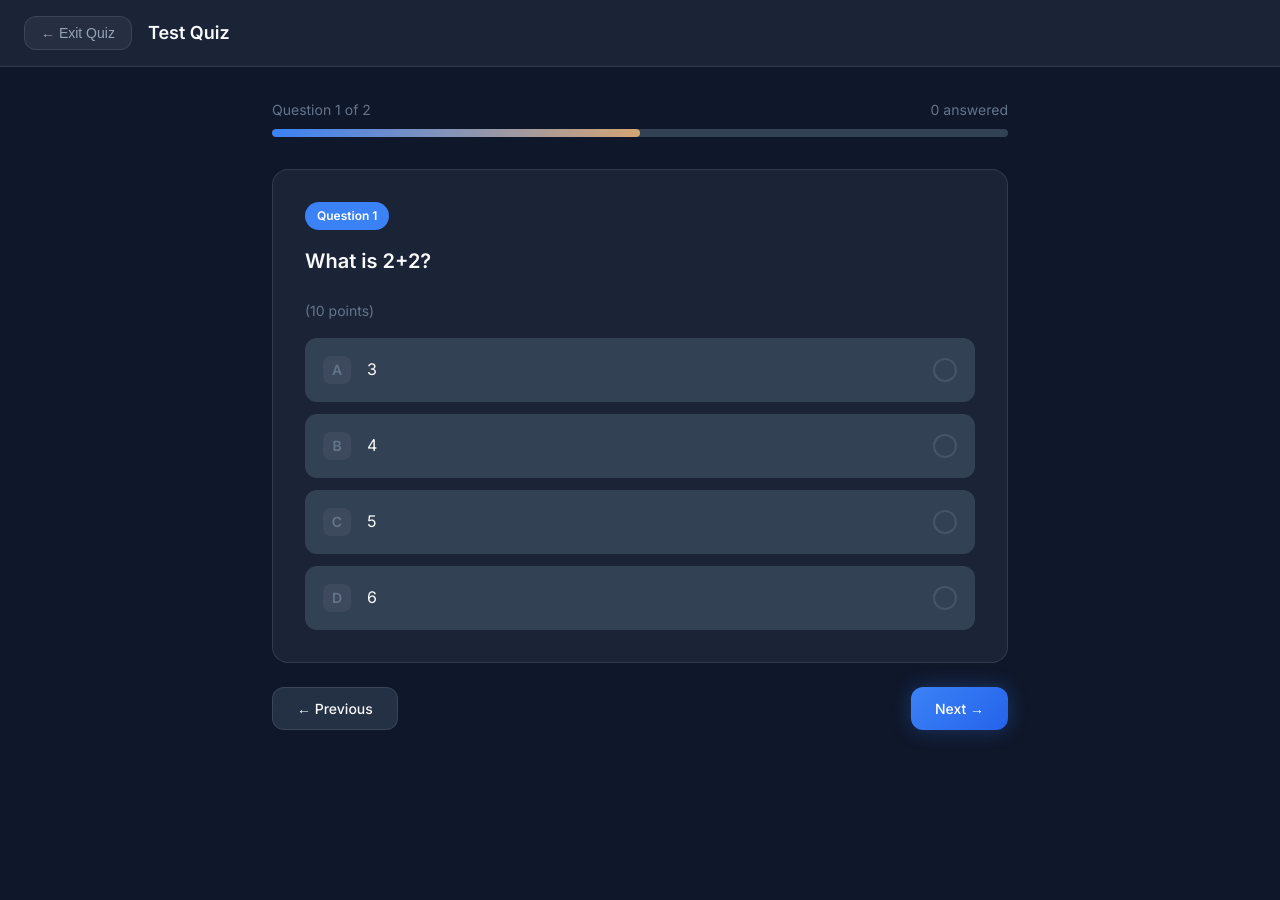
Scenario: QuizEngine › enables Check Answer button after selecting an answer
The width and height of the screenshot is (1280, 900).
expect the text "Check Answer" is not shown: met
Click the text "4": click(640, 446) [305,414,975,478]
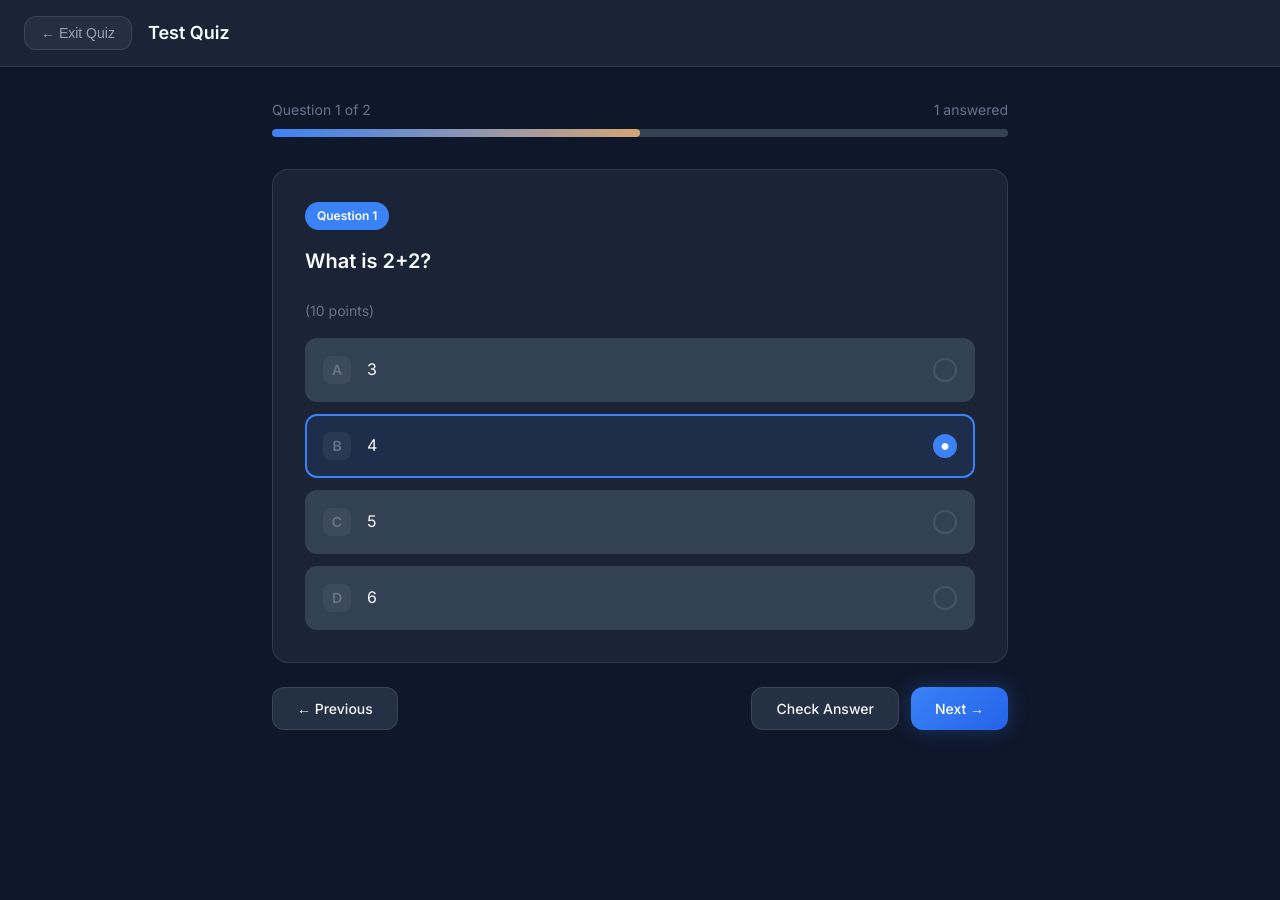
expect the button "Check Answer" is shown: met, box [752,687,899,730]
